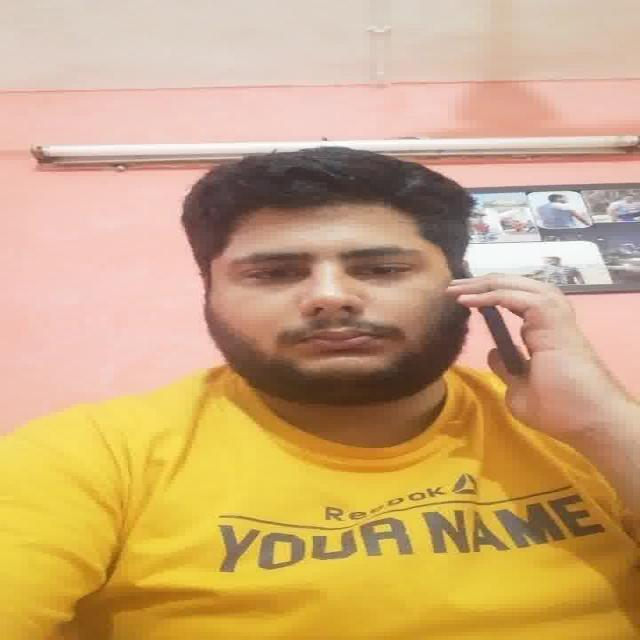Phone: (463, 256, 532, 378)
